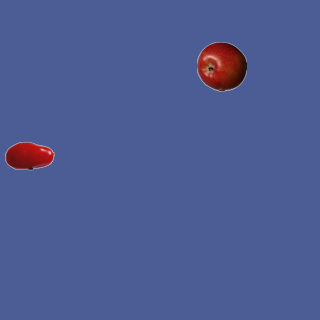Apple Braeburn: (196, 41, 246, 91)
Tomato 2: (4, 130, 54, 180)
